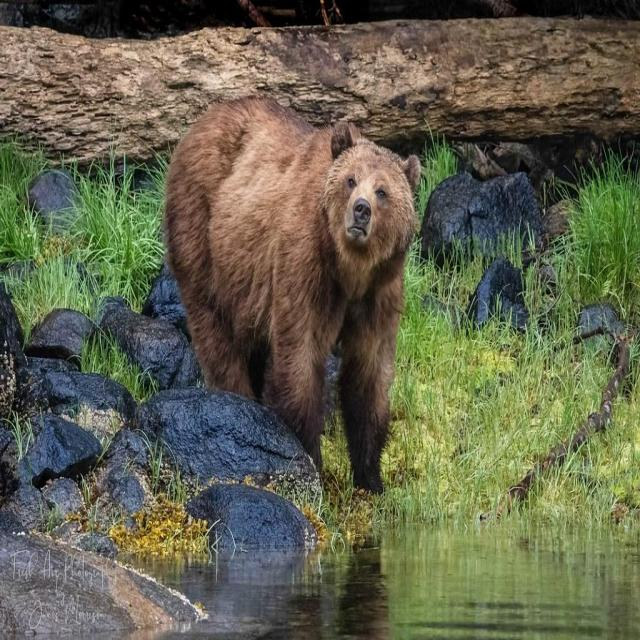Bear: (162, 97, 422, 496)
